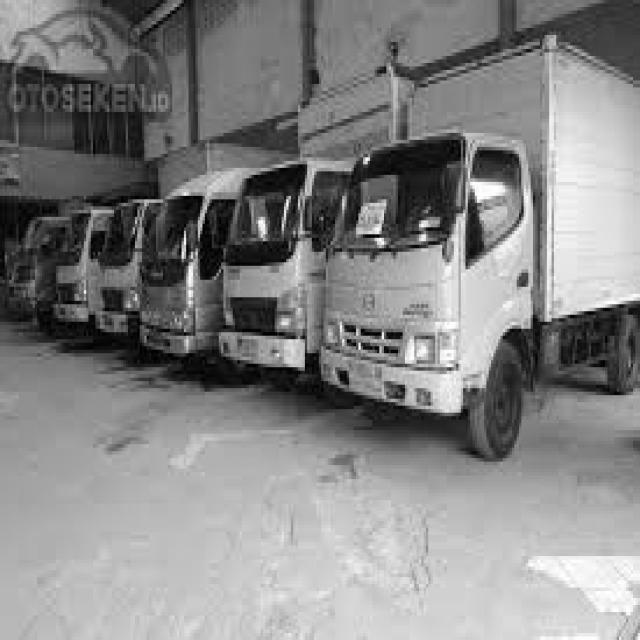truck: (316, 110, 548, 470), (216, 149, 356, 409), (135, 168, 244, 380), (91, 194, 166, 350)
